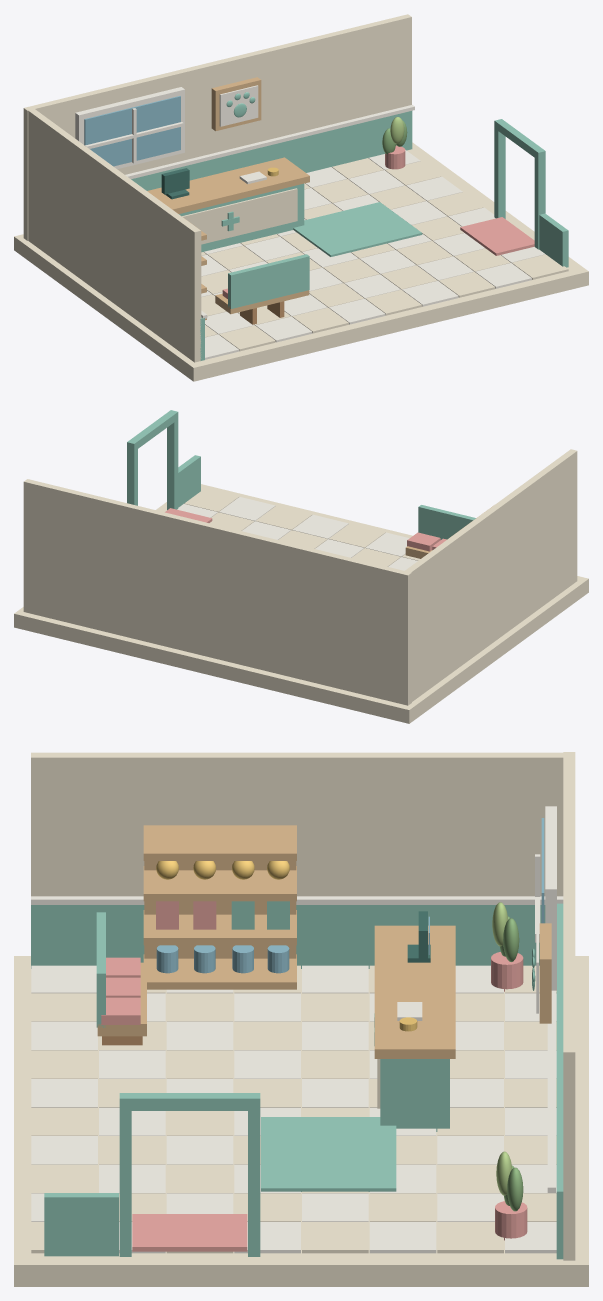
Rendered from clinic.glb.
3 renders of one model, top to bottom at view 1: azimuth 30°, elevation 25°; view 2: azimuth 150°, elevation 25°; view 3: azimuth 270°, elevation 25°, orthographic. The views are drawn at different scales.
Parts seen in each view (by area): view 1: left wall, back wall, foundation, back dado, window sky, round rug, countertop, counter front panel, bench back, back trim, window frame, welcome mat (+47 smaller); view 2: back wall, left wall, foundation, bench back, side entrance post, side wall cutaway, floor tile.040, floor tile.048, floor tile.056, floor tile.064, floor tile.072, side entrance lintel (+8 smaller); view 3: left wall, foundation, left dado, round rug, countertop, back wall, shop shelf.003, reception counter, side wall cutaway, welcome mat, shop shelf.002, shop shelf (+79 smaller).
Boxes of the visible parts, <box> form: left wall: <box>26,108,201,362</box>; back wall: <box>23,14,411,240</box>; foundation: <box>14,142,588,381</box>; back dado: <box>131,111,412,190</box>; window sky: <box>84,96,180,166</box>; round rug: <box>293,202,422,256</box>; countertop: <box>147,157,309,213</box>; counter front panel: <box>182,188,297,244</box>; bench back: <box>228,254,309,308</box>; back trim: <box>125,105,414,179</box>; window frame: <box>75,87,184,169</box>; welcome mat: <box>460,217,534,255</box>; back wall: <box>23,479,411,705</box>; left wall: <box>403,449,577,701</box>; foundation: <box>14,484,588,723</box>; bench back: <box>418,505,475,539</box>; side entrance post: <box>167,416,178,509</box>; side wall cutaway: <box>178,455,200,507</box>; floor tile.040: <box>329,523,385,547</box>; floor tile.048: <box>292,514,348,538</box>; floor tile.056: <box>256,505,312,529</box>; floor tile.064: <box>219,497,275,521</box>; floor tile.072: <box>184,488,238,512</box>; side entrance lintel: <box>127,410,178,451</box>; left wall: <box>31,752,571,896</box>; foundation: <box>14,956,588,1286</box>; left dado: <box>31,905,545,968</box>; round rug: <box>261,1117,396,1191</box>; countertop: <box>374,925,455,1058</box>; back wall: <box>563,752,575,1260</box>; shop shelf.003: <box>143,825,296,860</box>; reception counter: <box>380,1059,449,1131</box>; side wall cutaway: <box>44,1193,118,1256</box>; welcome mat: <box>132,1214,247,1251</box>; shop shelf.002: <box>143,866,296,901</box>; shop shelf: <box>143,954,296,989</box>.
Bounding box in the file's own units: 10.8 × 3.76 × 8.5.
